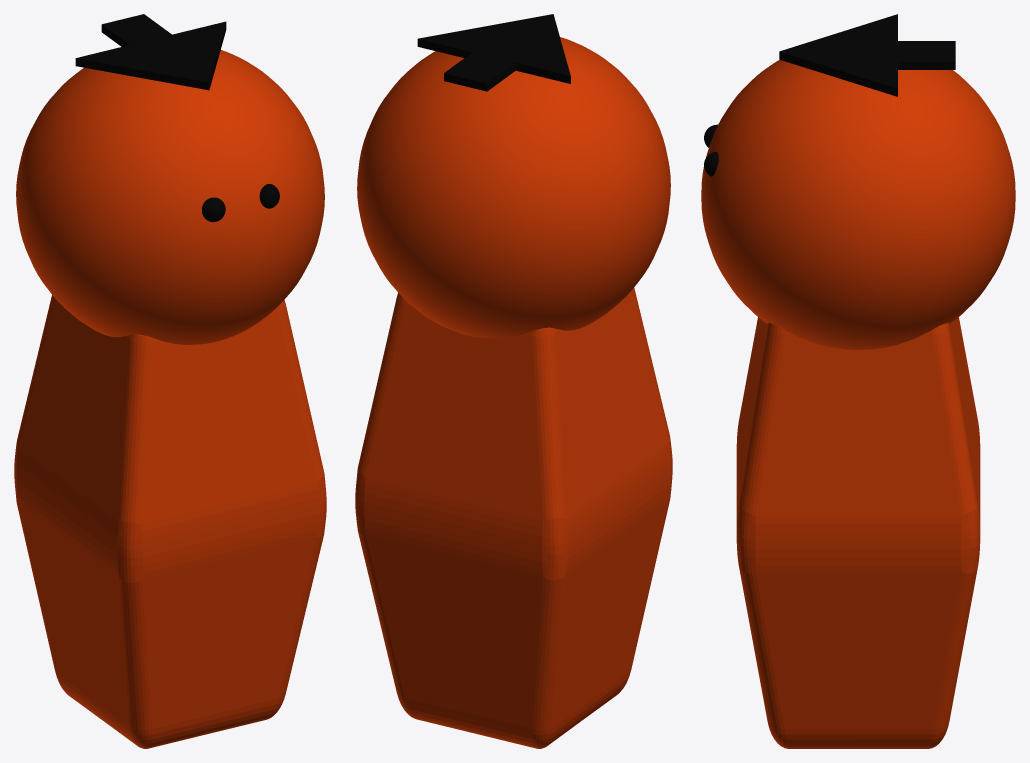
3 renders of one model, left to right at view 1: azimuth 30°, elevation 25°; view 2: azimuth 150°, elevation 25°; view 3: azimuth 270°, elevation 25°, orthographic.
Visible parts, largest first — view 1: Cube.006_Cube.012_Material.005, Cube.006_Cube.012_SVGMat; view 2: Cube.006_Cube.012_Material.005, Cube.006_Cube.012_SVGMat; view 3: Cube.006_Cube.012_Material.005, Cube.006_Cube.012_SVGMat.
Part boxes in pixels (bbox=[...]): Cube.006_Cube.012_Material.005: bbox=[14, 50, 326, 748]; Cube.006_Cube.012_SVGMat: bbox=[75, 14, 279, 222]; Cube.006_Cube.012_Material.005: bbox=[355, 37, 672, 748]; Cube.006_Cube.012_SVGMat: bbox=[417, 14, 570, 91]; Cube.006_Cube.012_Material.005: bbox=[701, 59, 1015, 748]; Cube.006_Cube.012_SVGMat: bbox=[704, 14, 955, 176].
Bounding box in the file's own units: 0.2062 × 0.482 × 0.2057.
